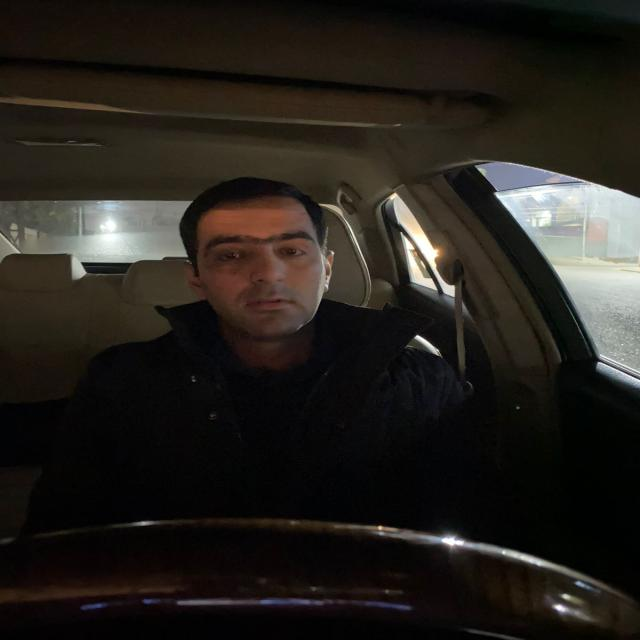person: (176, 168, 361, 360)
